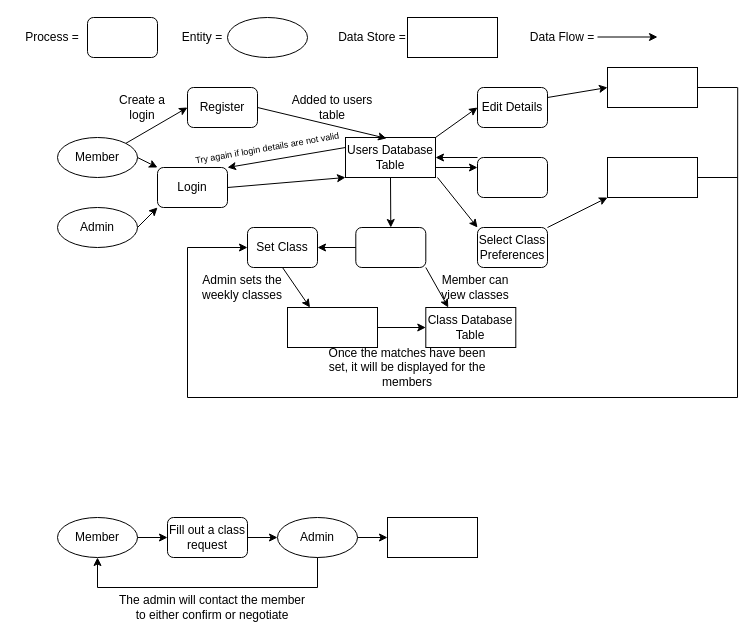
The diagram is 756 pixels wide and 639 high, and some of its shapes have lost their labels. Here are the shapes that lost their labels. From the top down, the box of each, then its label:
(606, 66, 698, 108): Details Database Table
(476, 156, 548, 198): Change Password
(606, 156, 698, 198): User Class Database Table
(355, 226, 426, 268): Classes
(286, 306, 378, 348): Matches Database Table
(386, 516, 478, 558): Admin's Personal Diary
